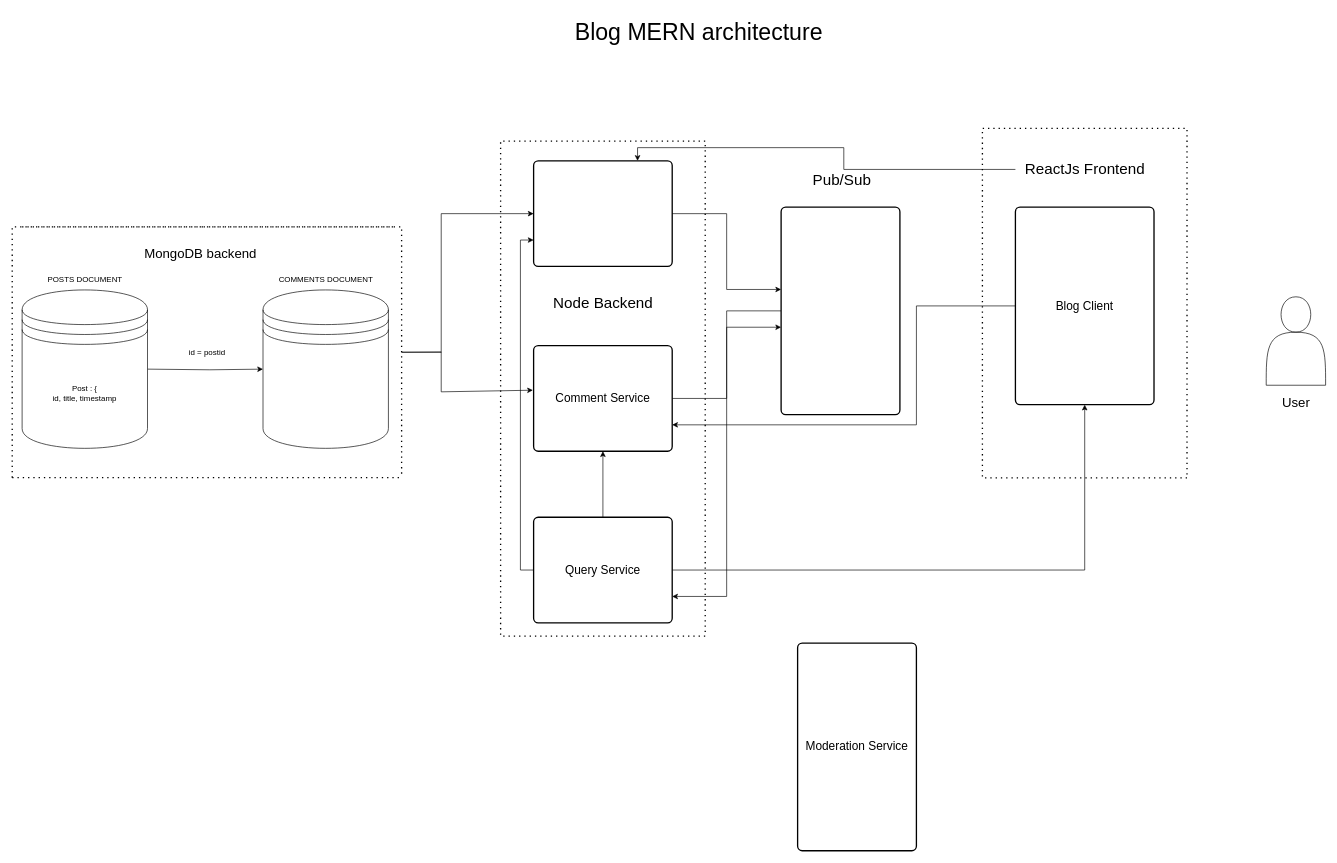
Some shapes in this 1337 by 863 pixel diagram are drawn without their labels. Each missing label, with the centre of its shape:
Comment : { id, content, postid, timestamp }: the point at 325,368
Event Broker: the point at 840,310
Posts Service: the point at 603,213
